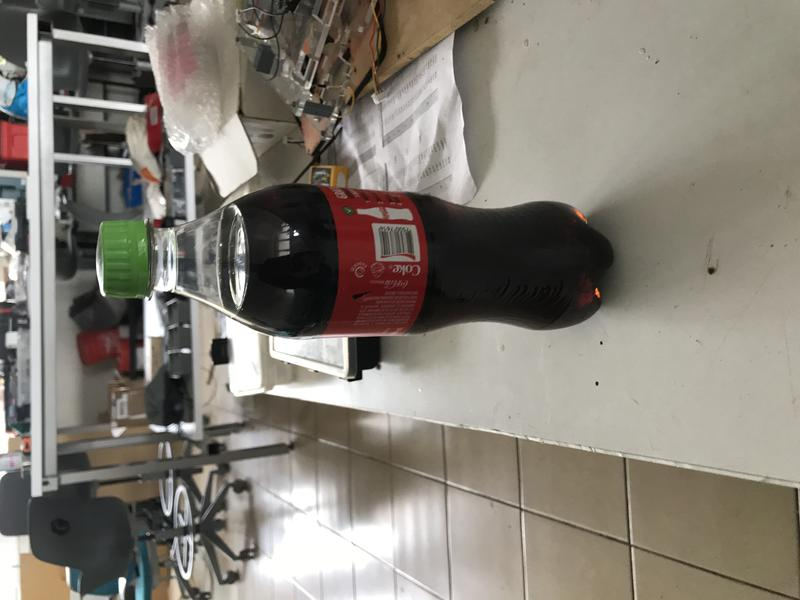coca_cola: (92, 184, 615, 343)
